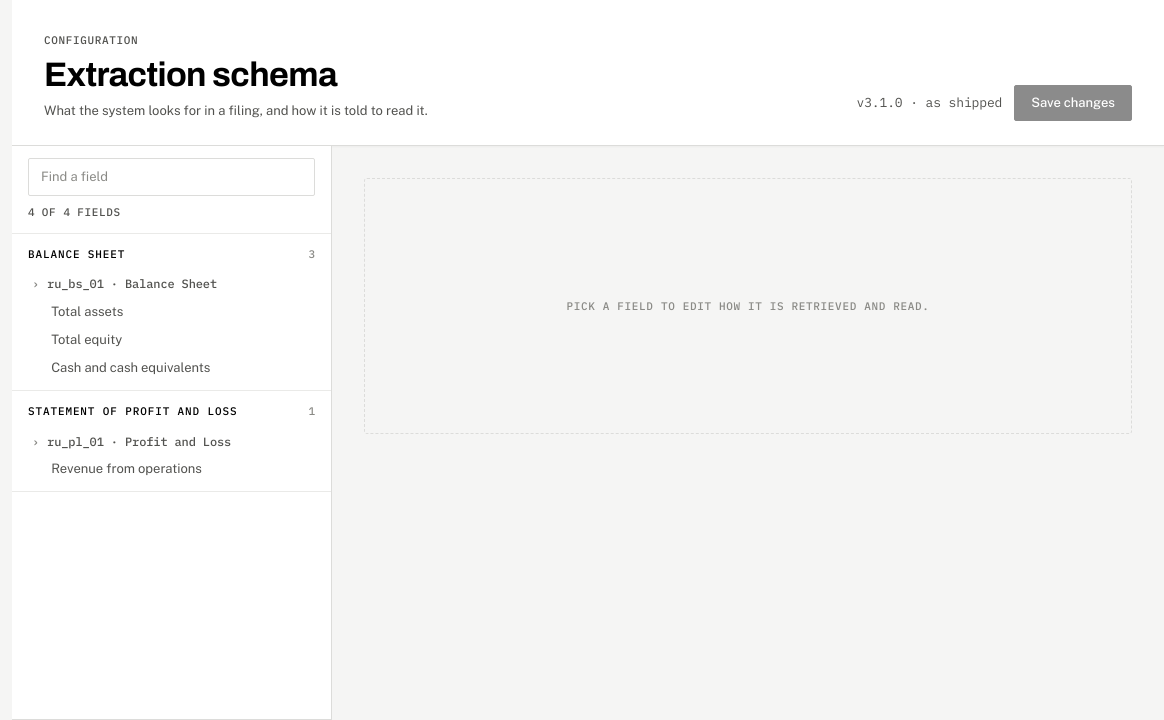
Test: SchemaScreen › finds a field by an alias it never shows, and says how much is hidden
The width and height of the screenshot is (1164, 720).
Check: the button "Total assets" is shown, box [12,298,331,326]
Type "income" into the field labelled "Find a field" at (172, 177), box [28,158,315,196]
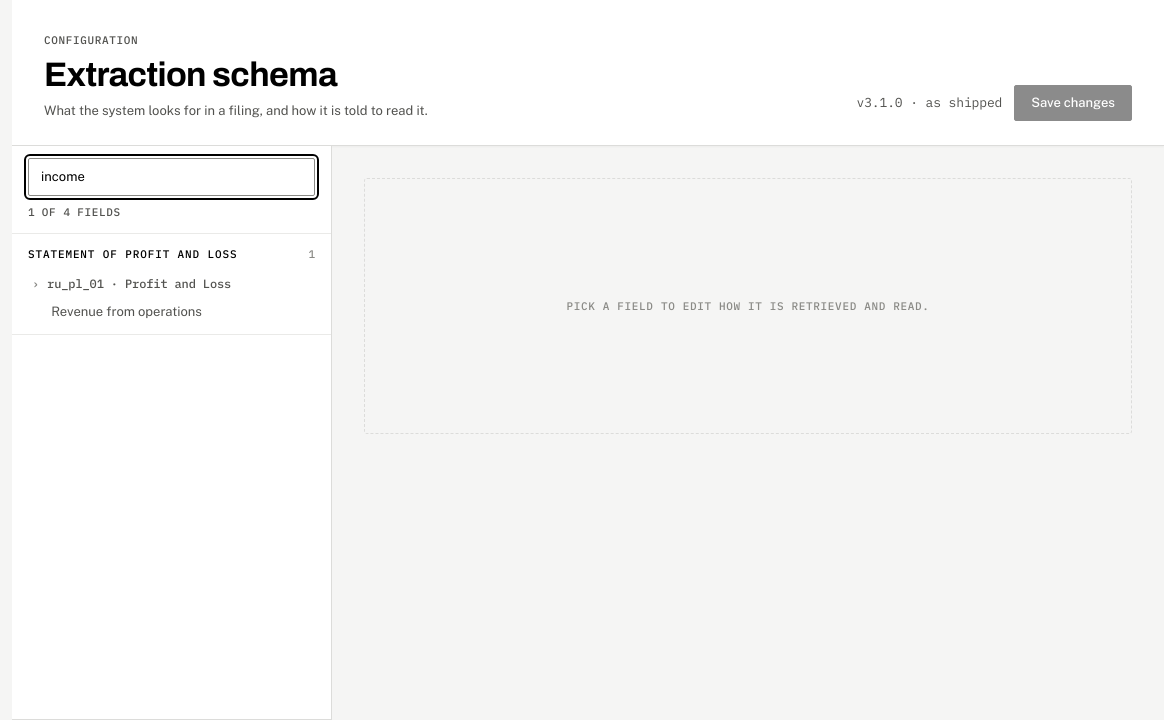
Check: the button "Total assets" is gone
Check: the text "Balance Sheet" is gone
Check: the message reads "1 of 4 fields", box [28,205,121,219]
